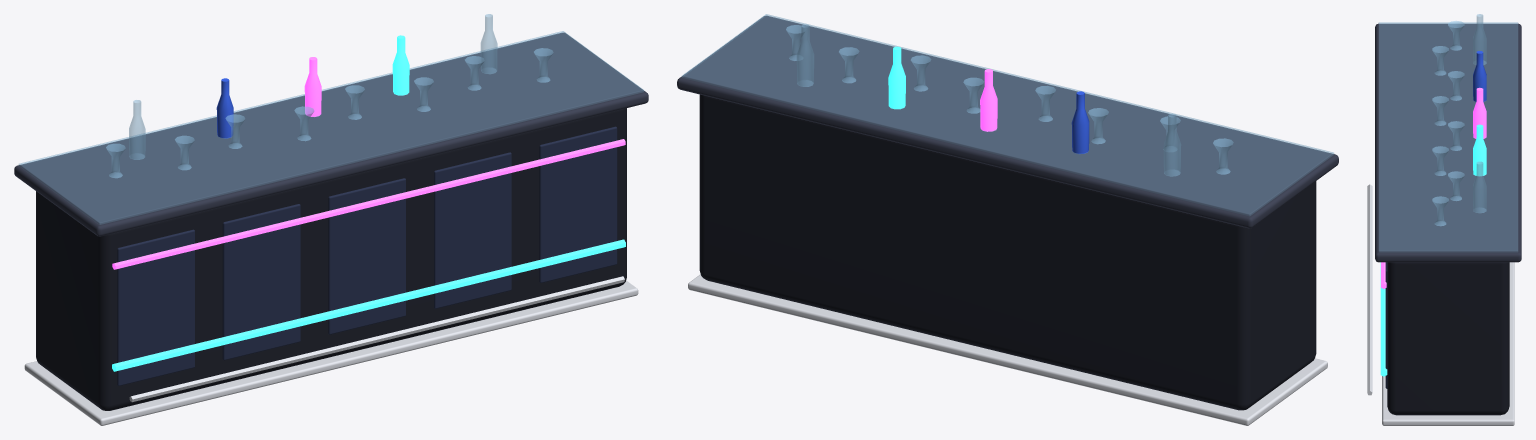
The model's file is bar_counter_neon.glb.
3 views of the same model, side by side, from view 1: azimuth 30°, elevation 25°; view 2: azimuth 150°, elevation 25°; view 3: azimuth 270°, elevation 25° (orthographic). The views are drawn at different scales.
Parts seen in each view (by area): view 1: bar_counter_neon; view 2: bar_counter_neon; view 3: bar_counter_neon.
Part boxes in pixels (bbox=[...]): bar_counter_neon: bbox=[14, 14, 648, 425]; bar_counter_neon: bbox=[677, 14, 1338, 425]; bar_counter_neon: bbox=[1367, 14, 1521, 425].
Bounding box in the file's own units: 3.14 × 1.42 × 0.8852.
